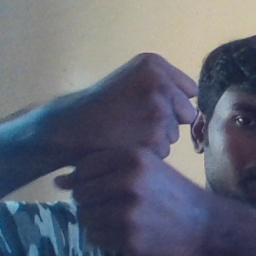G: (66, 47, 201, 256)
